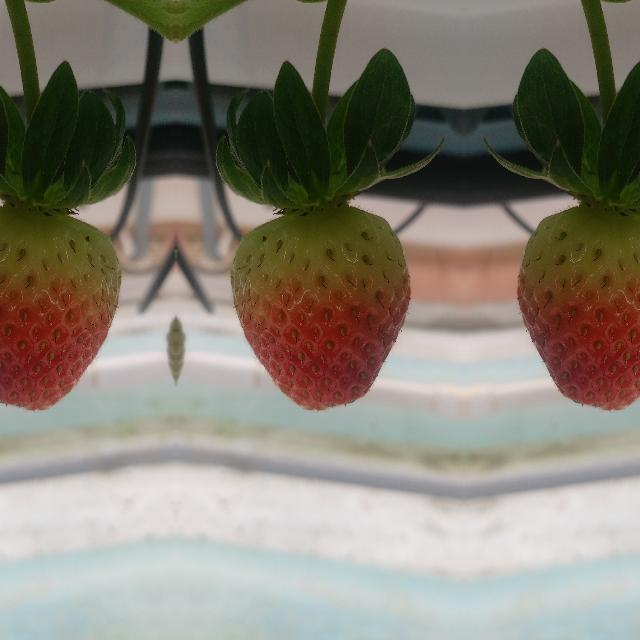Health_75: (229, 206, 409, 410), (517, 206, 640, 409), (0, 206, 121, 409)
